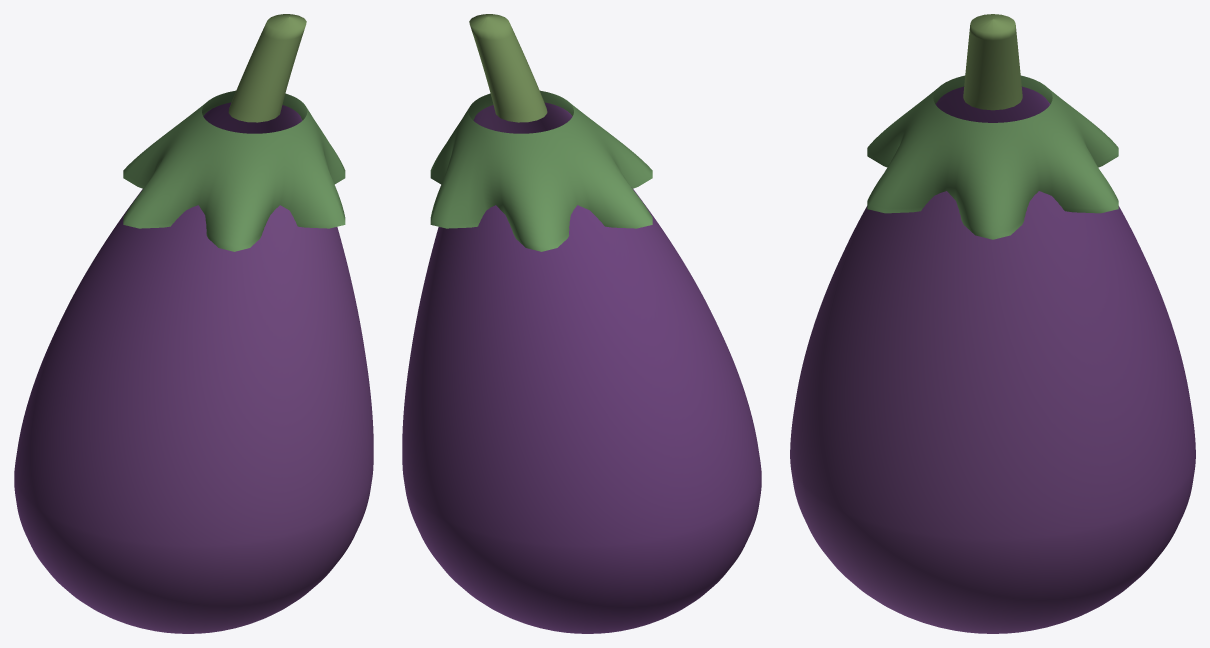
File: plavi_patlidzan.glb
3 renders of one model, left to right at view 1: azimuth 30°, elevation 25°; view 2: azimuth 150°, elevation 25°; view 3: azimuth 270°, elevation 25°, orthographic. The views are drawn at different scales.
Visible parts, largest first — view 1: plavi_patlidzan; view 2: plavi_patlidzan; view 3: plavi_patlidzan.
Part boxes in pixels (box(x1,y1,x2,y2)): plavi_patlidzan: box(14, 14, 373, 633); plavi_patlidzan: box(402, 14, 761, 633); plavi_patlidzan: box(790, 14, 1195, 633).
Size of the model in its own units: 0.6828 by 1.2 by 0.6802.
